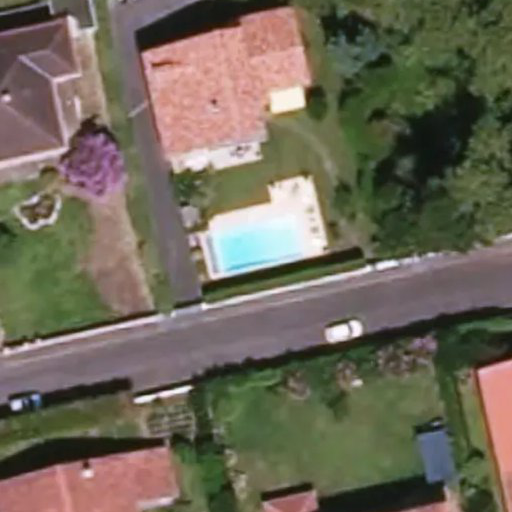pool: (210, 230, 301, 253)
